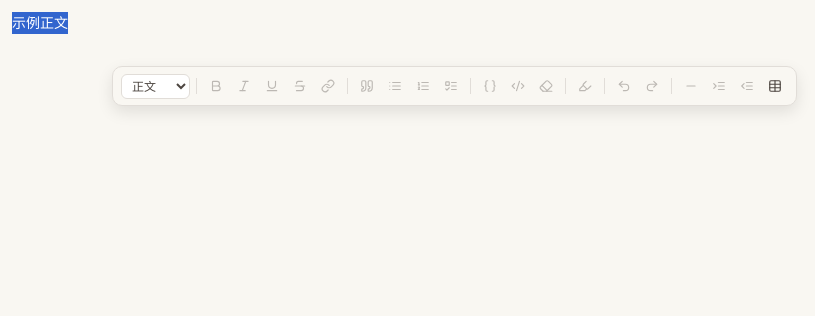
it: EditorToolbar（Q6 共享正文工具栏） › 插入表格按钮打开尺寸网格，点格子下发 table 命令并关闭
Expected: the element named "正文格式" is shown, [112,66,797,106]
Click the button named "插入表格".
click(775, 86)  # box [762,73,788,99]
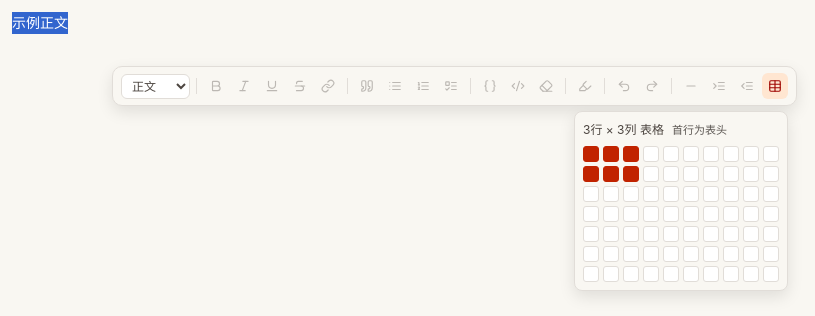
Now the text "3行 × 3列 表格" is shown, box [583,122,664,137]
Now the number of buttons named "2x1" is 70
Hover over the button named "4x5".
mouse_move(671, 194)  # box [663,186,679,202]
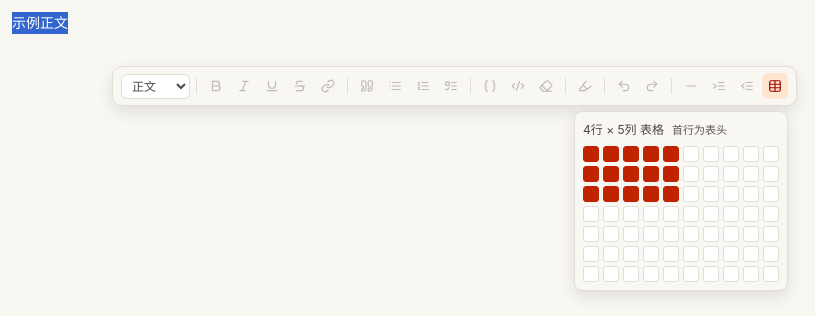
Now the text "4行 × 5列 表格" is shown, box [583,122,664,137]
Click the button named "4x5".
click(671, 194)  # box [663,186,679,202]
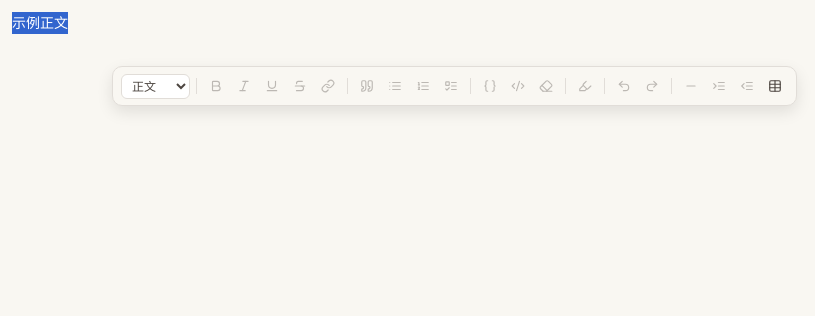
Now the button "4x5" is gone
